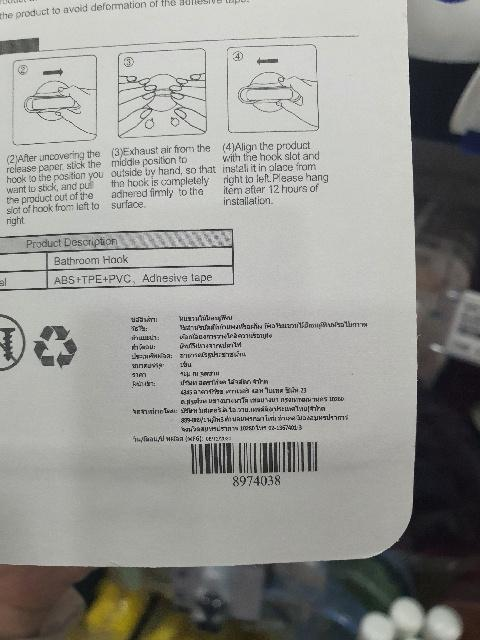Barcode: (184, 439, 327, 487)
